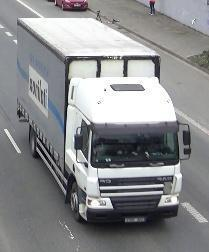Car: (53, 0, 89, 12)
Person: (149, 0, 156, 15)
Truck: (16, 18, 192, 227)
